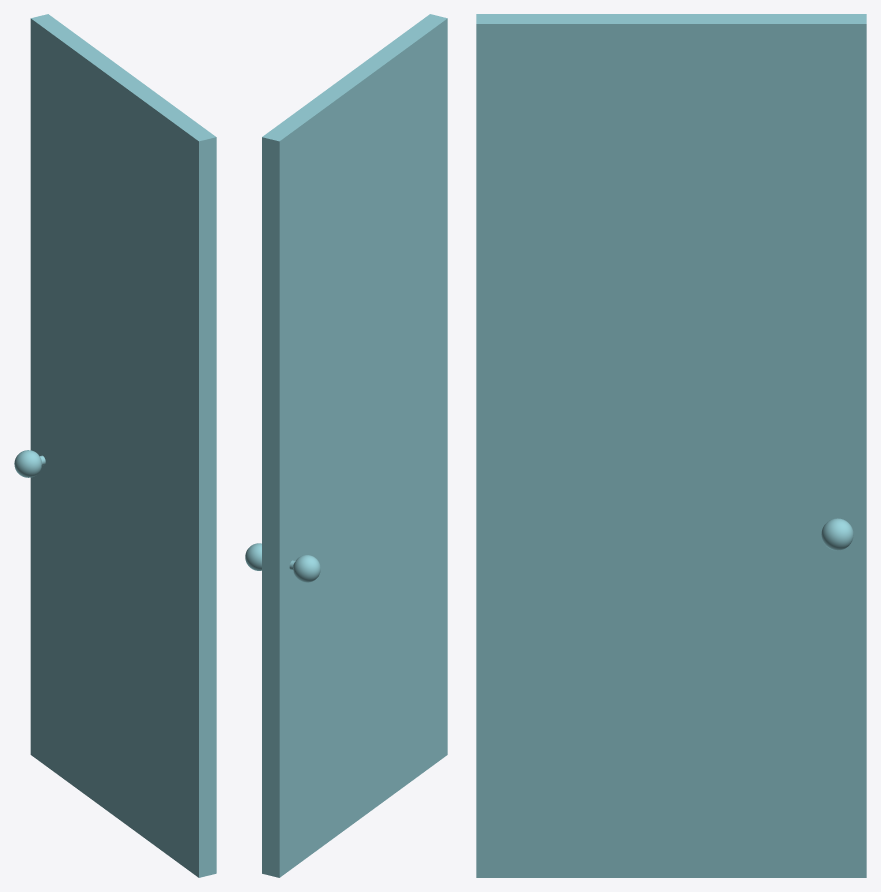
Rendered from Door.FBX.
3 renders of one model, left to right at view 1: azimuth 30°, elevation 25°; view 2: azimuth 150°, elevation 25°; view 3: azimuth 270°, elevation 25°, orthographic. The views are drawn at different scales.
Visible parts, largest first — view 1: Door, DoorKnob; view 2: Door, DoorKnob; view 3: Door, DoorKnob.
Part boxes in pixels (<box>): Door: <box>30,14,216,877</box>; DoorKnob: <box>14,450,45,477</box>; Door: <box>262,14,447,877</box>; DoorKnob: <box>245,543,320,582</box>; Door: <box>476,14,866,877</box>; DoorKnob: <box>821,518,853,550</box>.
Bounding box in the file's own units: 10.86 × 106 × 44.
